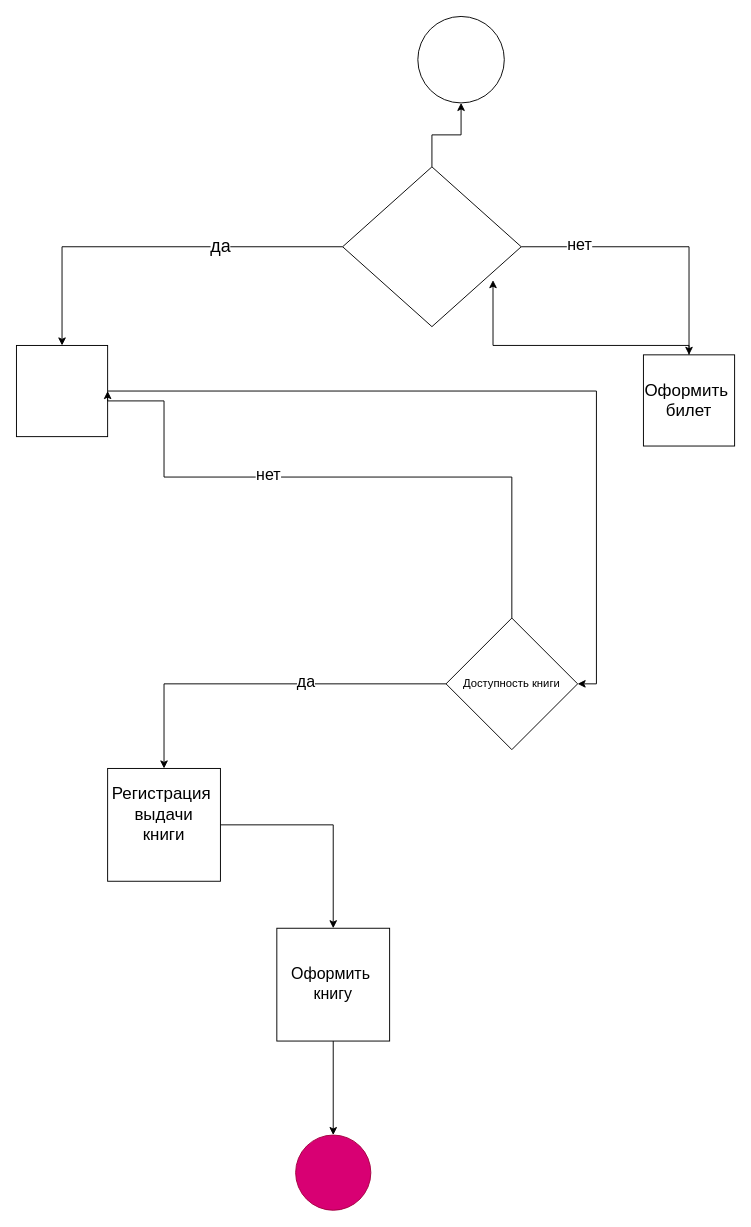
Some shapes in this 751 by 1227 pixel diagram are drawn without their labels. The centre of each missing label's shape, as x and y in pixels:
Выбор книги: point (62, 391)
Есть ли билет?: point (431, 246)
